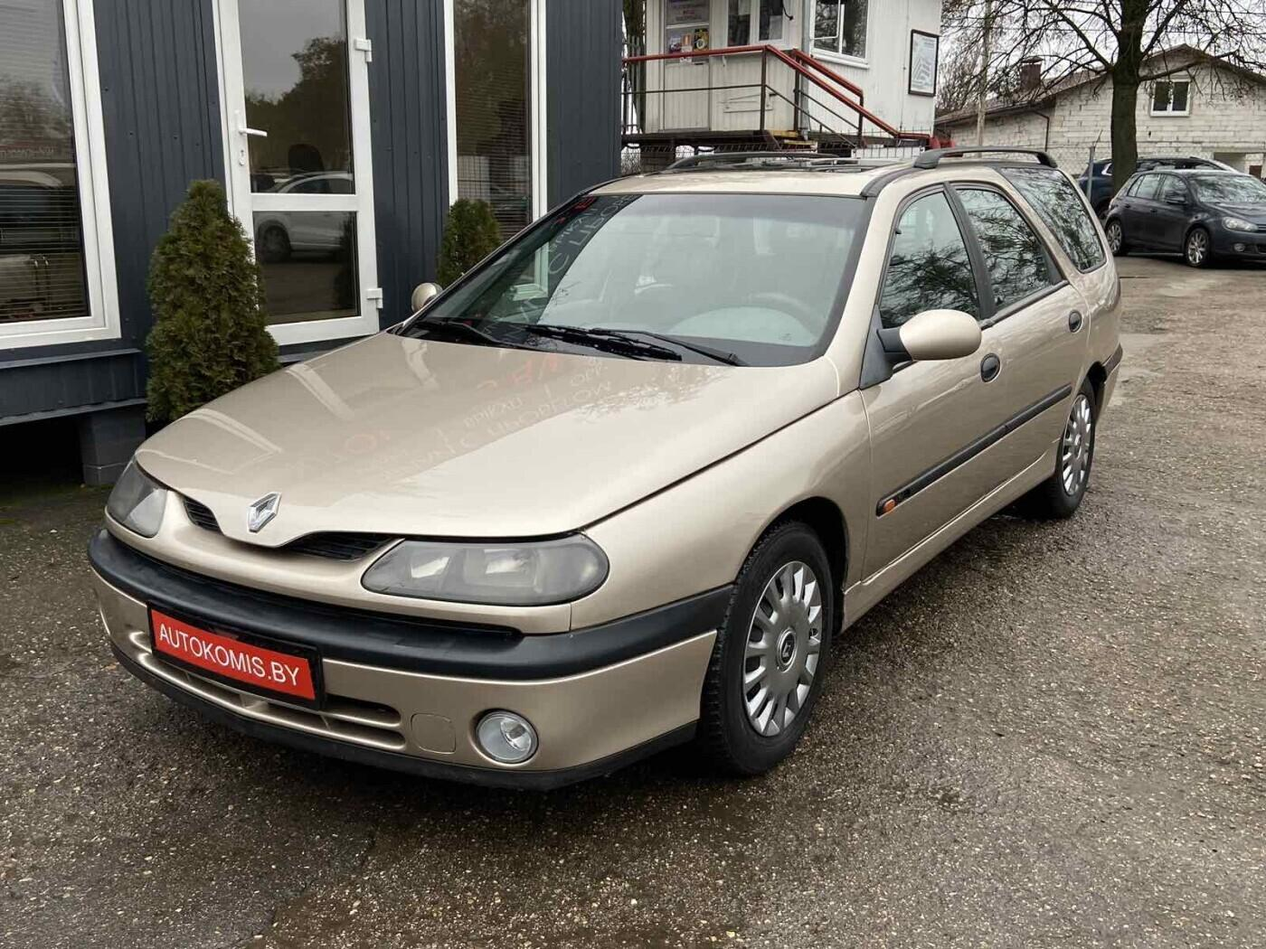Laguna_1998-2001: (87, 146, 1125, 782)
